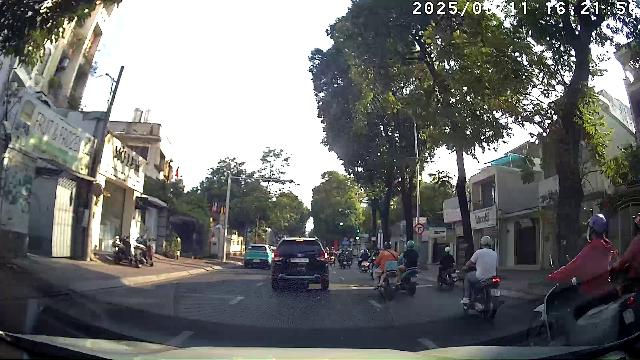123b-cam-re-phai: (414, 223, 424, 234)
